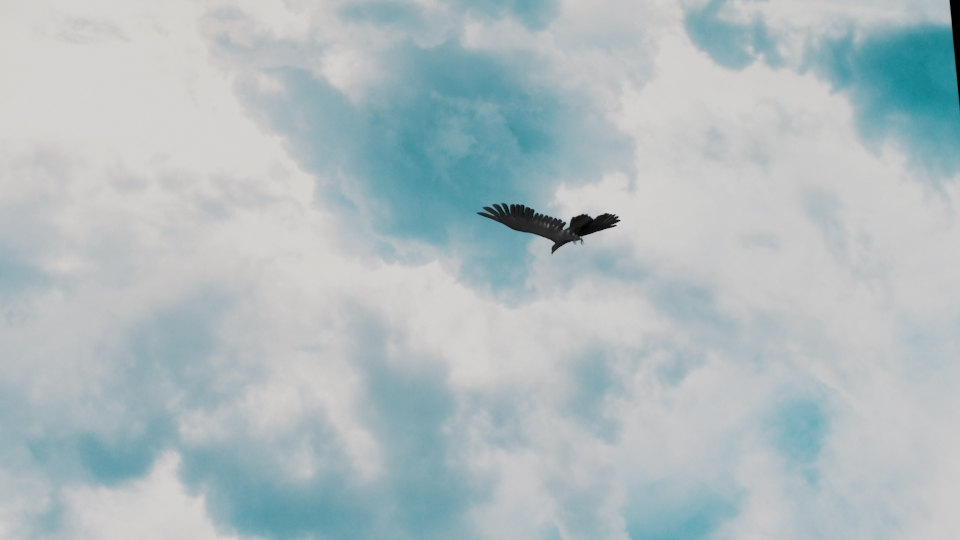bird: (477, 200, 621, 252)
